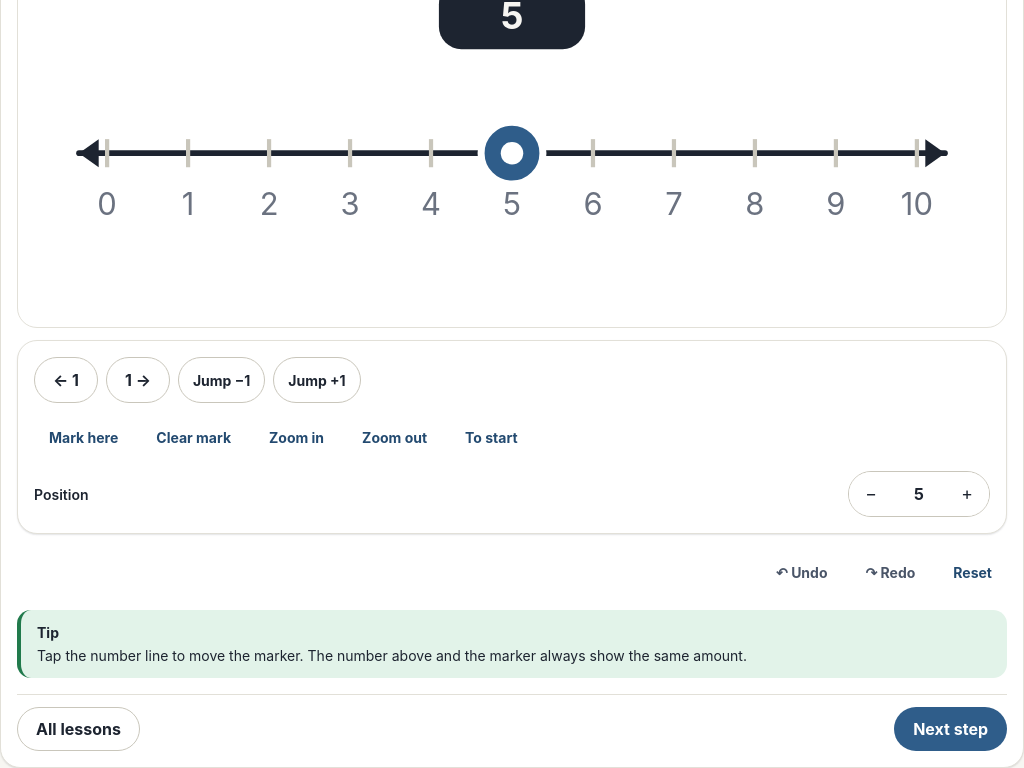
a progress write that fails (defect B) › double-clicking next cannot skip a step
(page scrolled)
Double-click the button with test id "next-step".
double_click(951, 729)  # box left=894, top=707, right=1007, bottom=751
(page scrolled)
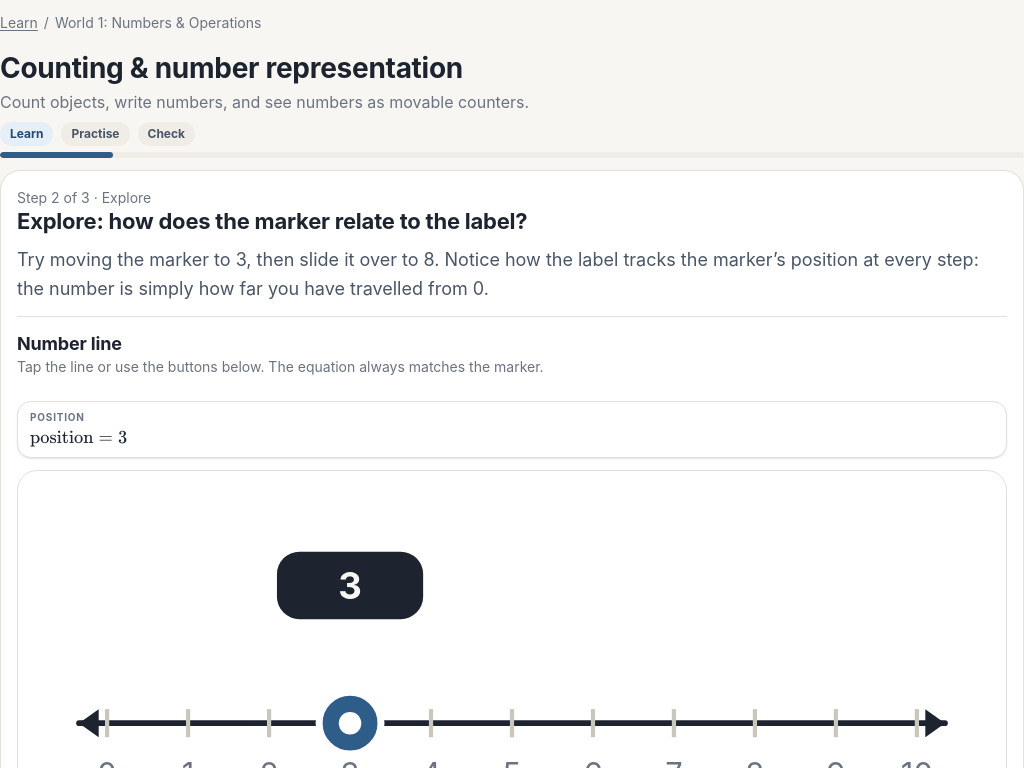
Expected: the text "Step 2 of 3 · Explore" is shown, left=17, top=189, right=151, bottom=206
